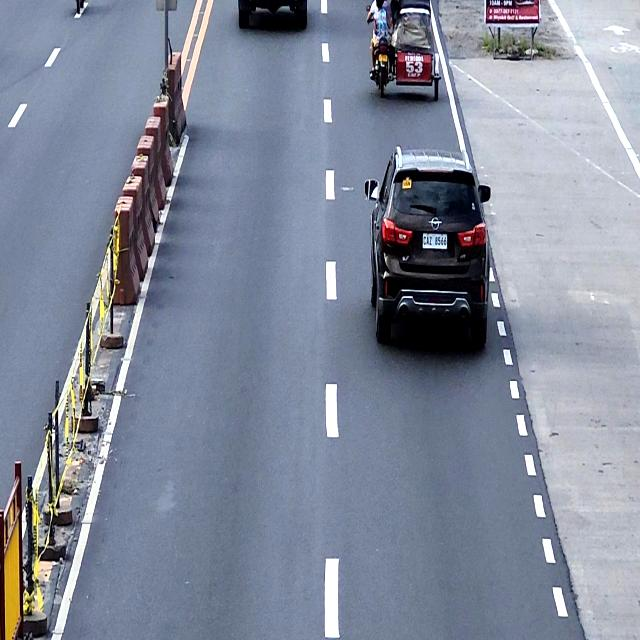Car: (364, 144, 491, 348)
License-Plate: (422, 230, 448, 250), (378, 55, 388, 62)
Tricycle: (366, 1, 441, 101)
